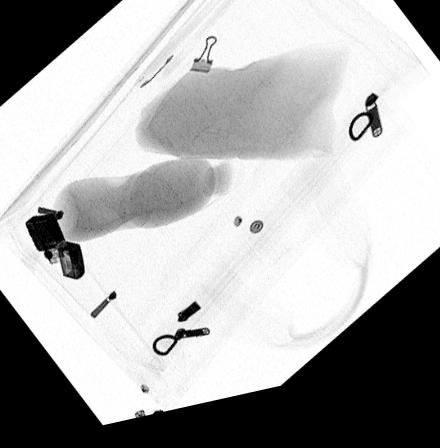Lighter: (24, 213, 85, 282)
